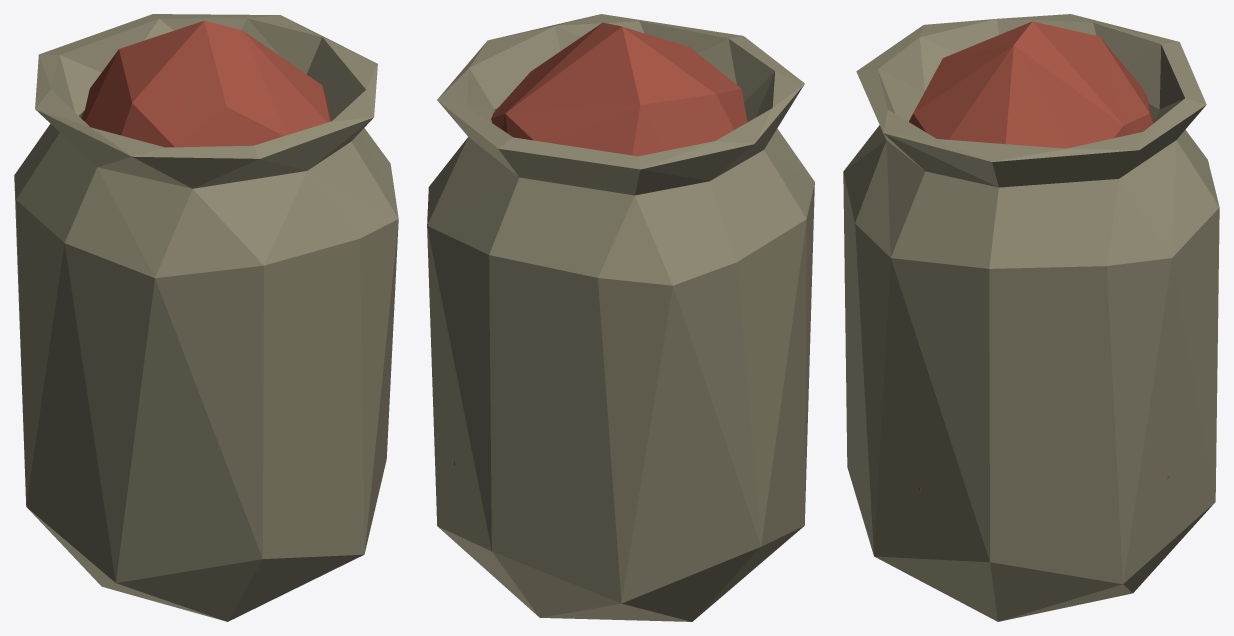
File: pot of saffron.glb
3 renders of one model, left to right at view 1: azimuth 30°, elevation 25°; view 2: azimuth 150°, elevation 25°; view 3: azimuth 270°, elevation 25°, orthographic.
Visible parts, largest first — view 1: Cube, Cube.001; view 2: Cube, Cube.001; view 3: Cube, Cube.001.
Boxes of the visible parts, box(x1,y1,x2,y2) form: Cube: box(14, 14, 398, 621); Cube.001: box(81, 20, 381, 443); Cube: box(427, 14, 814, 621); Cube.001: box(453, 22, 747, 465); Cube: box(843, 14, 1219, 621); Cube.001: box(909, 21, 1168, 490).
Bounding box in the file's own units: 0.5585 × 0.9123 × 0.5585.
